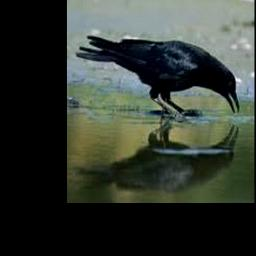Crow: (75, 34, 240, 117)
